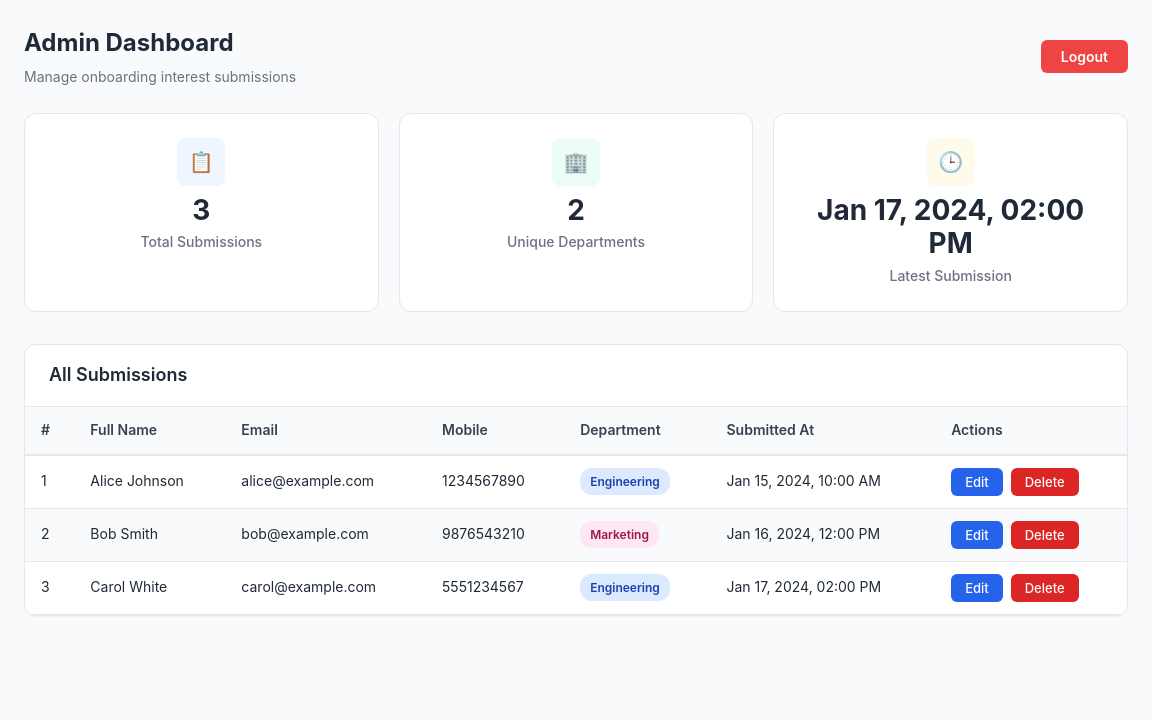
Scenario: AdminDashboard › edit functionality › opens edit modal when edit button is clicked
Click the button "Edit" in the row of "Alice Johnson" at (977, 482), box [951,468,1003,496]
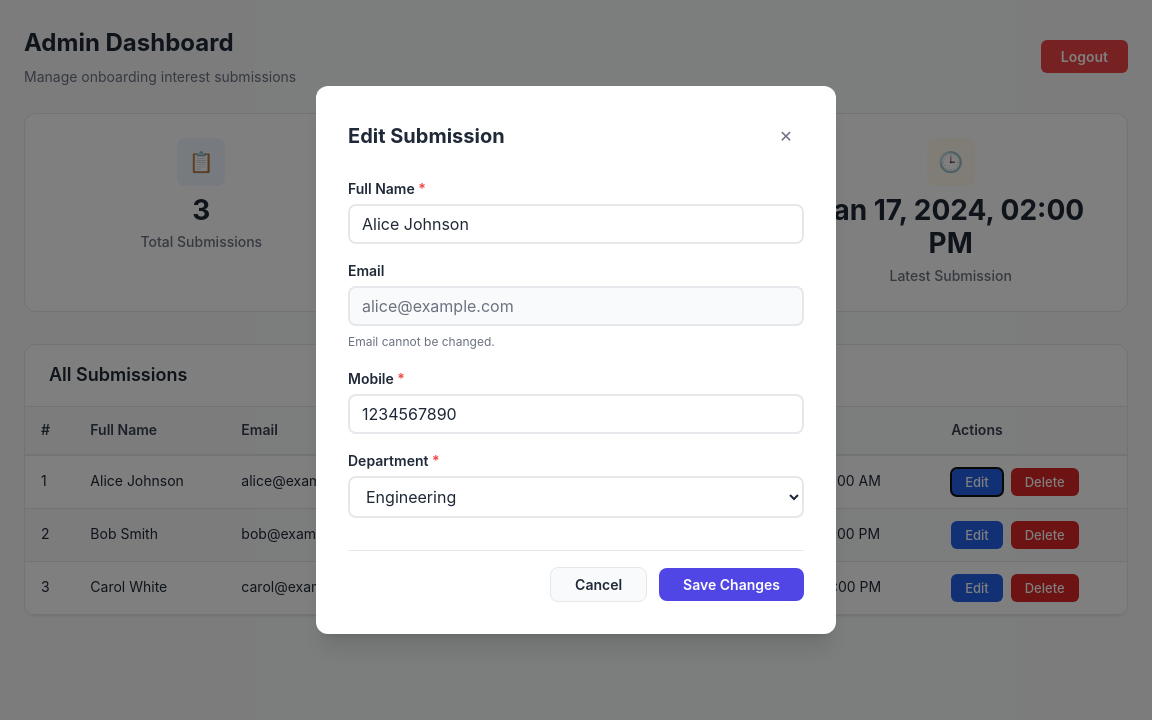
Result: the heading "Edit Submission" is shown at [348,120,505,152]
Result: the field showing "Alice Johnson" is shown at [348,204,804,244]
